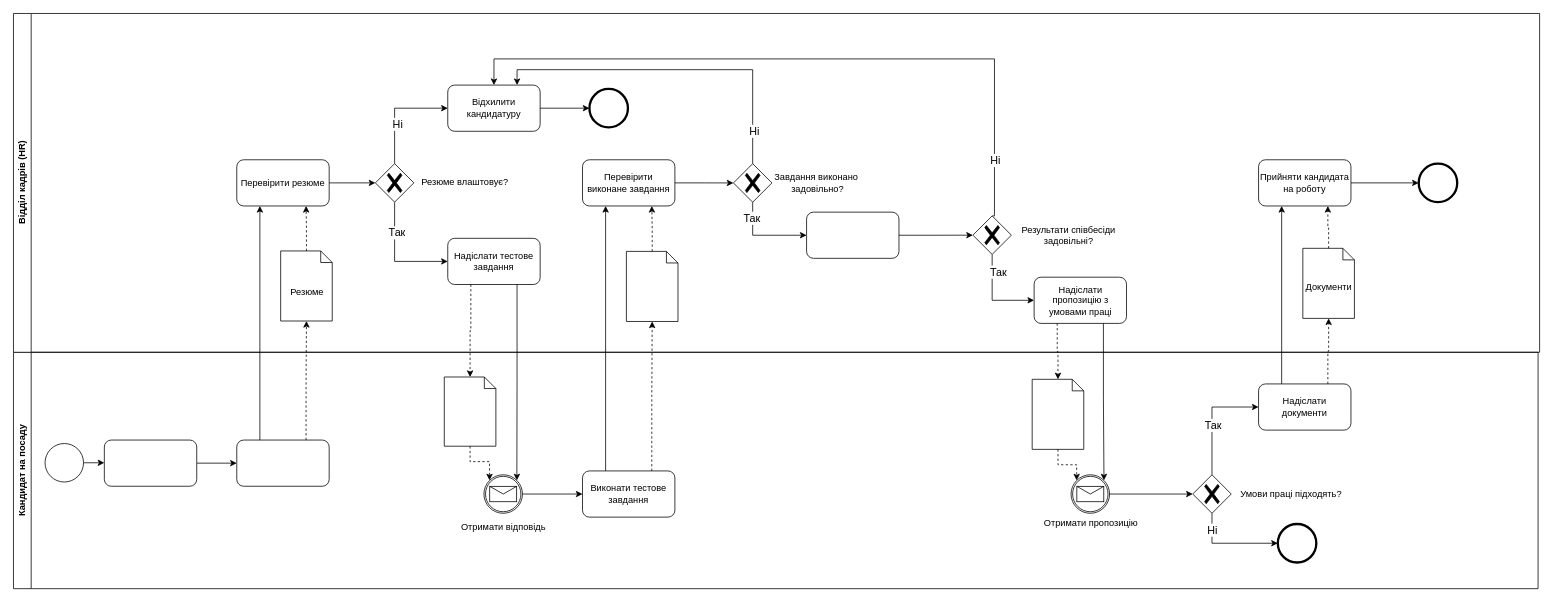
The diagram is 1553 pixels wide and 602 high, and some of its shapes have lost their labels. The centre of each missing label's shape, as x and y in pixels:
"Виконане завдання" belongs at point 652,286.
"Матеріали завдання" belongs at point 470,411.
"Надіслати резюме" belongs at point 282,462.
"Провести співбесіду" belongs at point 852,234.
"Створити резюме" belongs at point 150,462.
"Умови праці" belongs at point 1057,414.
